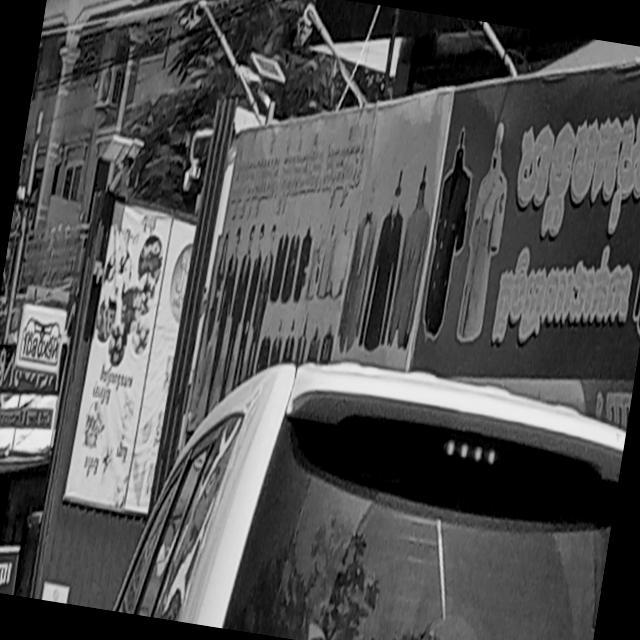Yolov11_80vkh: (502, 96, 640, 250), (470, 234, 640, 350)
